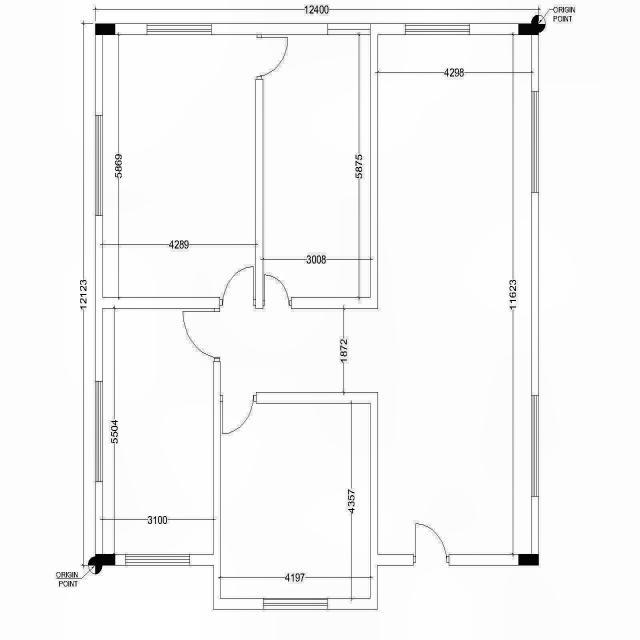Column: (94, 554, 116, 566), (94, 23, 116, 35), (518, 23, 539, 35), (518, 554, 539, 566)
Door: (182, 308, 220, 362), (220, 266, 256, 306), (414, 524, 448, 566), (220, 395, 256, 434), (257, 35, 288, 79), (263, 274, 291, 306)
Window: (531, 91, 539, 192), (95, 381, 103, 482), (95, 115, 103, 216), (531, 396, 539, 496), (146, 24, 212, 36), (405, 23, 470, 35), (263, 598, 328, 610), (125, 554, 190, 566), (328, 23, 370, 35)
